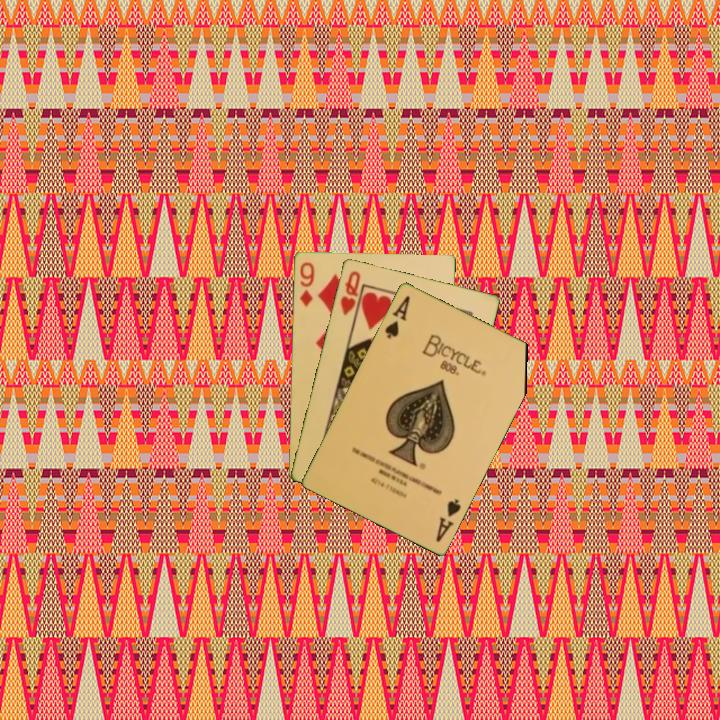9d: (296, 259, 317, 310)
As: (432, 494, 464, 545), (381, 292, 413, 341)
Qh: (337, 267, 363, 318)
